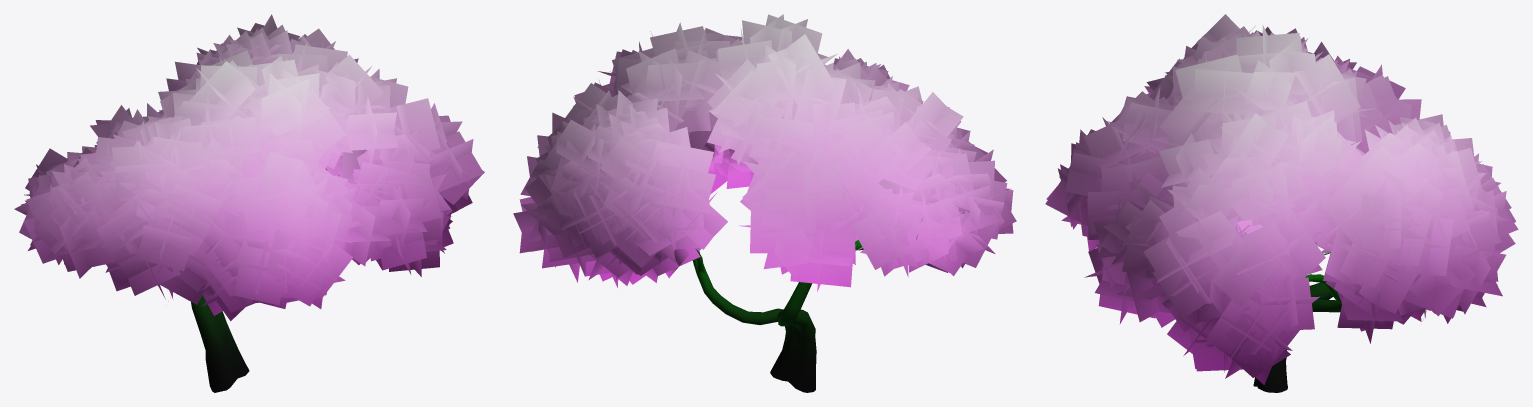
Rendered from TSI_Broadleaf_Tree_06A.fbx.
The picture shows the model from 3 angles, left to right: view 1: azimuth 30°, elevation 25°; view 2: azimuth 150°, elevation 25°; view 3: azimuth 270°, elevation 25°; orthographic projection. The views are drawn at different scales.
Parts seen in each view (by area): view 1: TSI_Broadleaf_Tree_06A_LOD0; view 2: TSI_Broadleaf_Tree_06A_LOD0; view 3: TSI_Broadleaf_Tree_06A_LOD0.
Boxes of the visible parts, bbox=[...] form: TSI_Broadleaf_Tree_06A_LOD0: bbox=[14, 14, 484, 392]; TSI_Broadleaf_Tree_06A_LOD0: bbox=[513, 14, 1016, 392]; TSI_Broadleaf_Tree_06A_LOD0: bbox=[1045, 14, 1518, 392].
Bounding box in the file's own units: 1153 × 860 × 1000.
